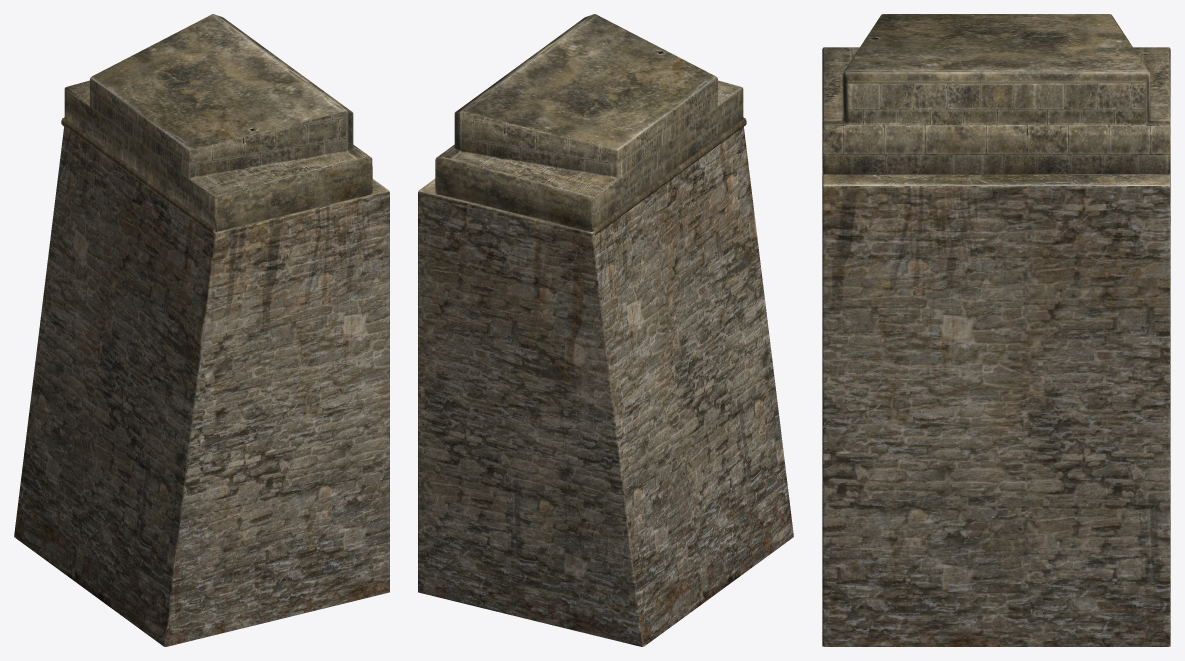
Rendered from modular_fort_01_wall_thick_end_02.gltf.
The picture shows the model from 3 angles, left to right: view 1: azimuth 30°, elevation 25°; view 2: azimuth 150°, elevation 25°; view 3: azimuth 270°, elevation 25°; orthographic projection. The views are drawn at different scales.
Visible parts, largest first — view 1: modular_fort_01_wall_thick_end_02__x; view 2: modular_fort_01_wall_thick_end_02__x; view 3: modular_fort_01_wall_thick_end_02__x.
Boxes of the visible parts, box(x1,y1,x2,y2) form: modular_fort_01_wall_thick_end_02__x: box(14, 14, 389, 646); modular_fort_01_wall_thick_end_02__x: box(418, 14, 793, 646); modular_fort_01_wall_thick_end_02__x: box(822, 14, 1170, 646).
Size of the model in its own units: 4.17 by 8.53 by 4.85.
Materials: 2 (2 with a texture image).
